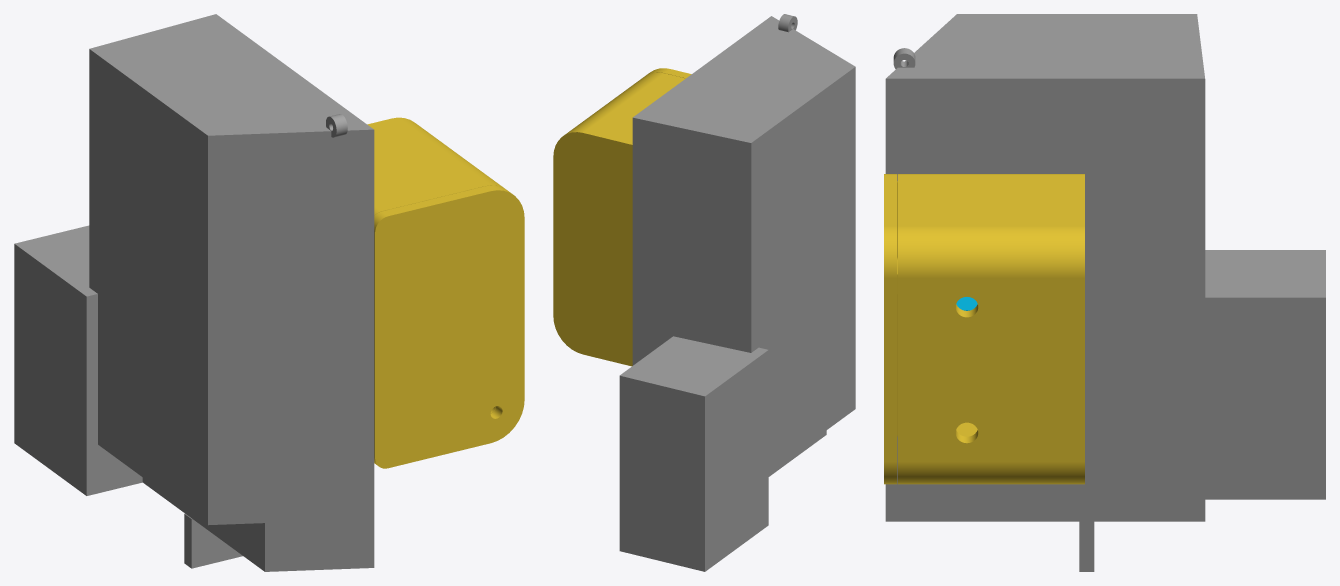
Rendered from MCColor.glb.
3 renders of one model, left to right at view 1: azimuth 30°, elevation 25°; view 2: azimuth 150°, elevation 25°; view 3: azimuth 270°, elevation 25°, orthographic. The views are drawn at different scales.
Parts seen in each view (by area): view 1: Gasmeter, Platte, Deckel; view 2: Gasmeter, Deckel; view 3: Gasmeter, Deckel, Platte.
Boxes of the visible parts, bbox=[...] form: Gasmeter: bbox=[14, 14, 374, 571]; Platte: bbox=[374, 185, 524, 468]; Deckel: bbox=[367, 117, 506, 413]; Gasmeter: bbox=[619, 14, 855, 571]; Deckel: bbox=[553, 72, 685, 366]; Gasmeter: bbox=[885, 14, 1325, 571]; Deckel: bbox=[897, 174, 1084, 484]; Platte: bbox=[884, 174, 897, 484].
Size of the model in its own units: 0.078 by 0.1282 by 0.1012.
